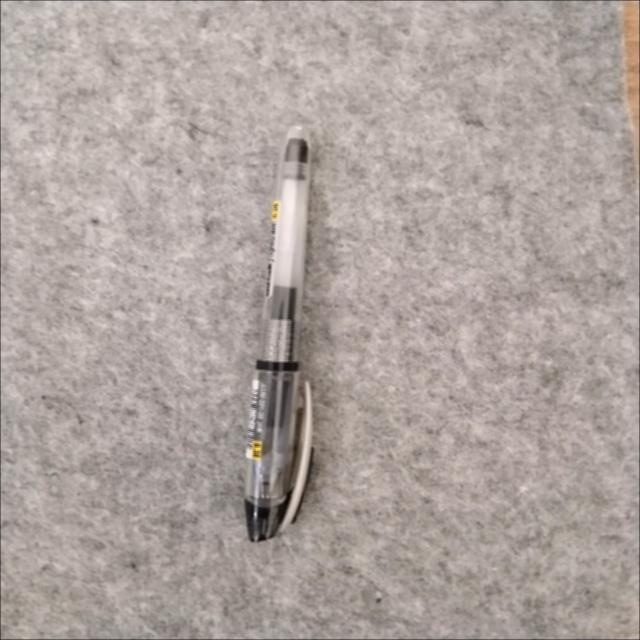pen: (245, 126, 311, 540)
